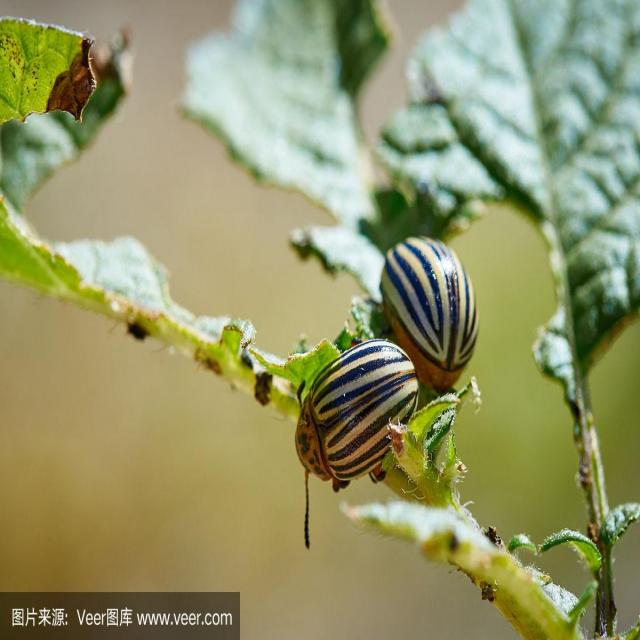ShuCaiHuaBanChong-Grown-: (286, 334, 424, 503), (382, 225, 477, 378)
